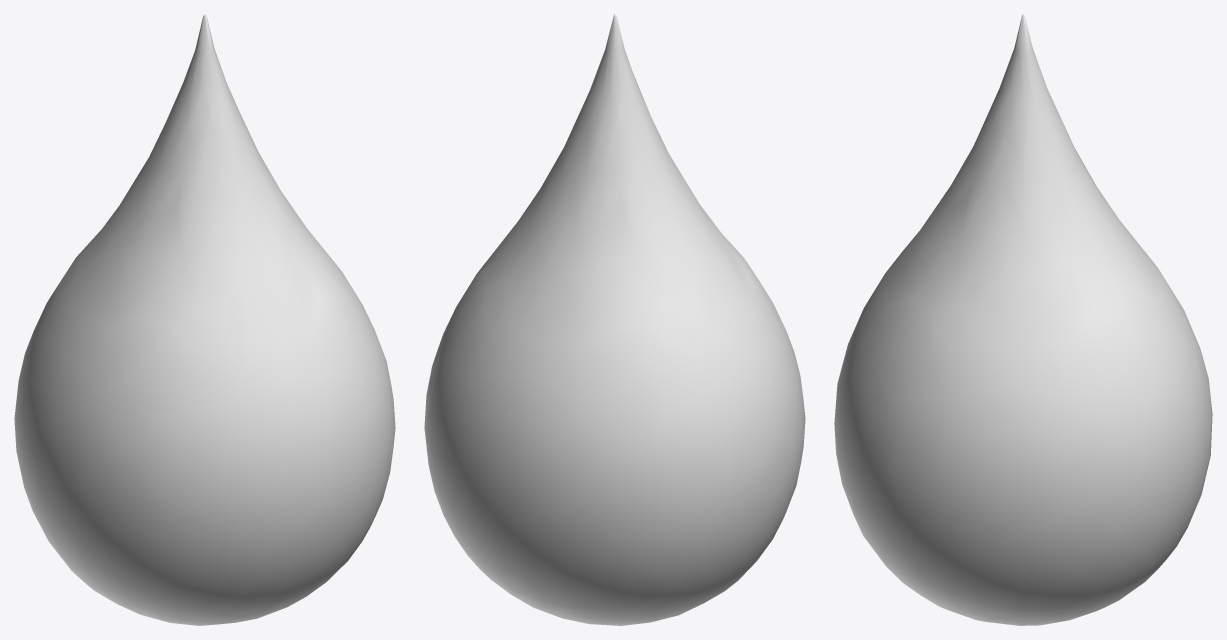
File: droplet.gltf
3 renders of one model, left to right at view 1: azimuth 30°, elevation 25°; view 2: azimuth 150°, elevation 25°; view 3: azimuth 270°, elevation 25°, orthographic.
Parts seen in each view (by area): view 1: Drops; view 2: Drops; view 3: Drops.
Boxes of the visible parts, x1=… form: Drops: x1=14, y1=14, x2=395, y2=625; Drops: x1=424, y1=14, x2=805, y2=625; Drops: x1=834, y1=14, x2=1212, y2=625.
Size of the model in its own units: 22.66 by 39.23 by 22.66.
Materials: 1 (1 with a texture image).
